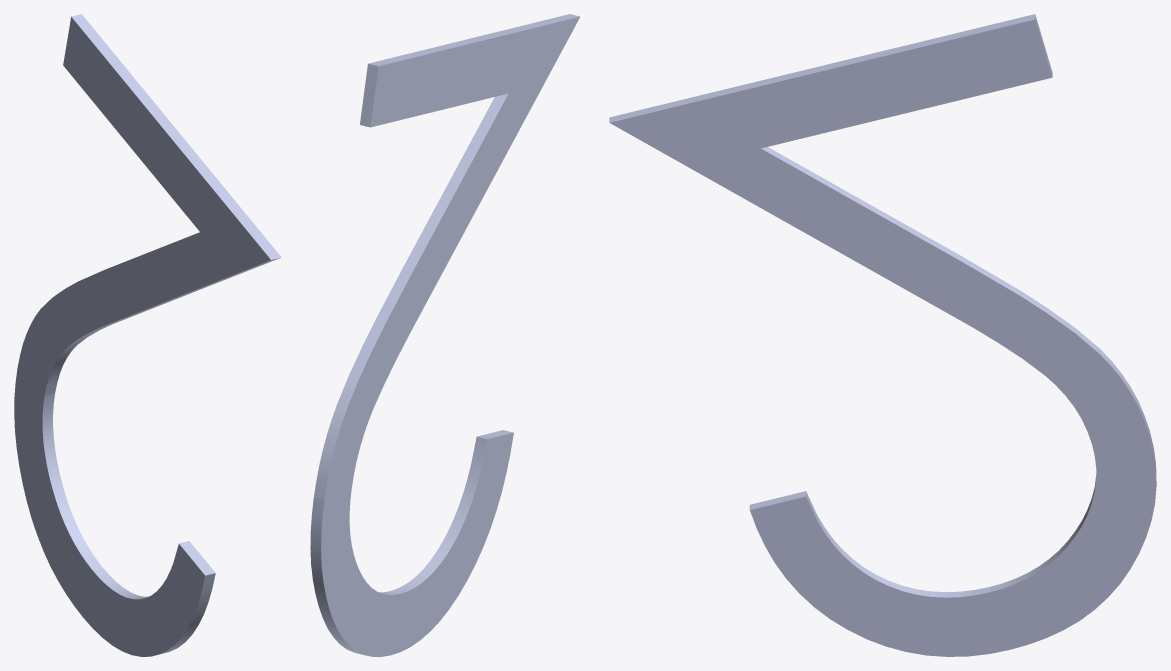
The model's file is body123_visual.obj.
The picture shows the model from 3 angles, left to right: view 1: azimuth 30°, elevation 25°; view 2: azimuth 150°, elevation 25°; view 3: azimuth 270°, elevation 25°; orthographic projection. The views are drawn at different scales.
Parts seen in each view (by area): view 1: Body123; view 2: Body123; view 3: Body123.
Boxes of the visible parts, x1,y1,x2,y2 form: Body123: (14, 14, 281, 656); Body123: (310, 14, 579, 656); Body123: (609, 14, 1156, 656).
Size of the model in its own units: 0.000999 by 0.0542 by 0.0422.
